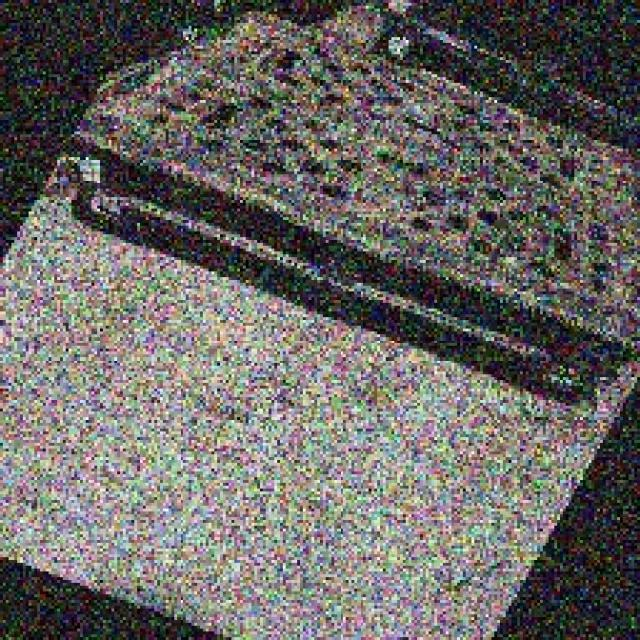igps: (48, 0, 640, 388), (64, 172, 606, 420)
